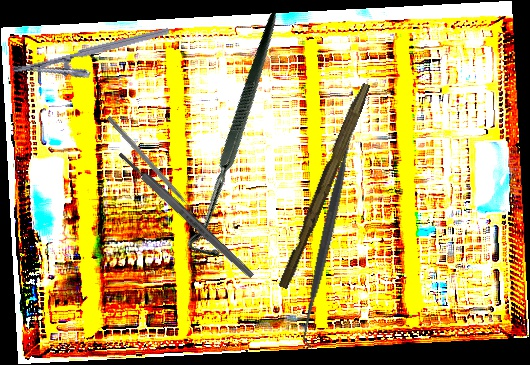Chopper: (101, 115, 198, 221)
Hook Surgical: (111, 10, 371, 268)
Needle Holder: (11, 26, 176, 96)
Scalpel Handle: (276, 79, 372, 292), (116, 149, 256, 281)
Spatula Surgical: (289, 114, 368, 350)
